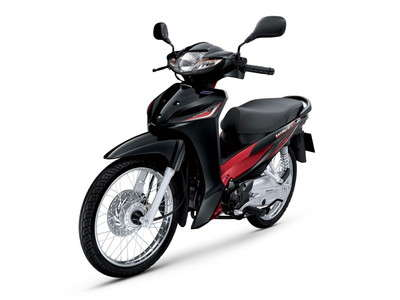motorcycle: (83, 16, 316, 280)
